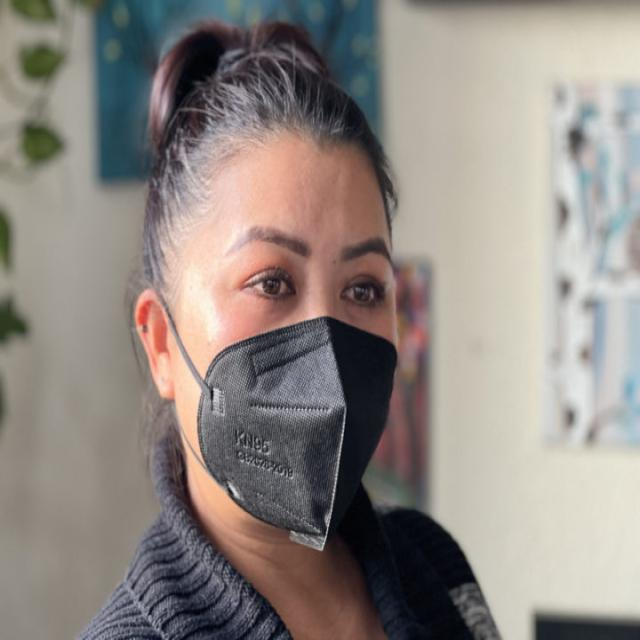1_mascarilla: (154, 289, 398, 551)
